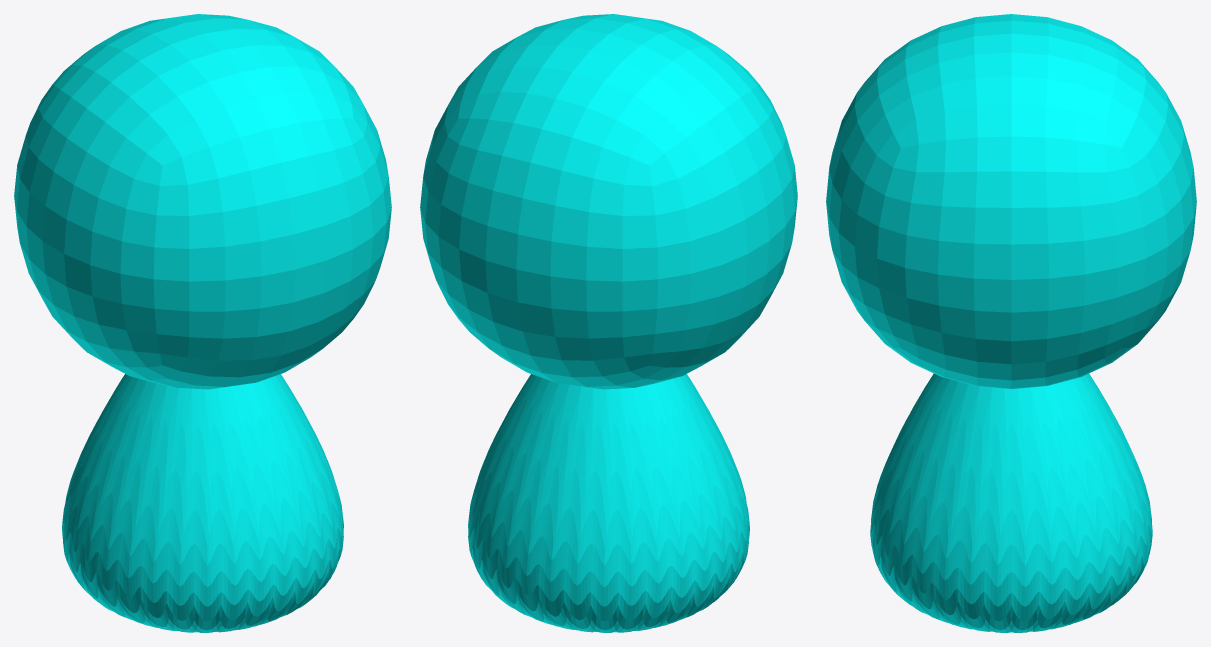
File: Target sky.obj
The picture shows the model from 3 angles, left to right: view 1: azimuth 30°, elevation 25°; view 2: azimuth 150°, elevation 25°; view 3: azimuth 270°, elevation 25°; orthographic projection.
Visible parts, largest first — view 1: Cube; view 2: Cube; view 3: Cube.
Boxes of the visible parts, x1,y1,x2,y2 form: Cube: (14,14,391,632); Cube: (420,14,797,632); Cube: (826,14,1196,632).
Size of the model in its own units: 1.68 by 2.92 by 1.68.
Materials: 1 (1 with a texture image).
